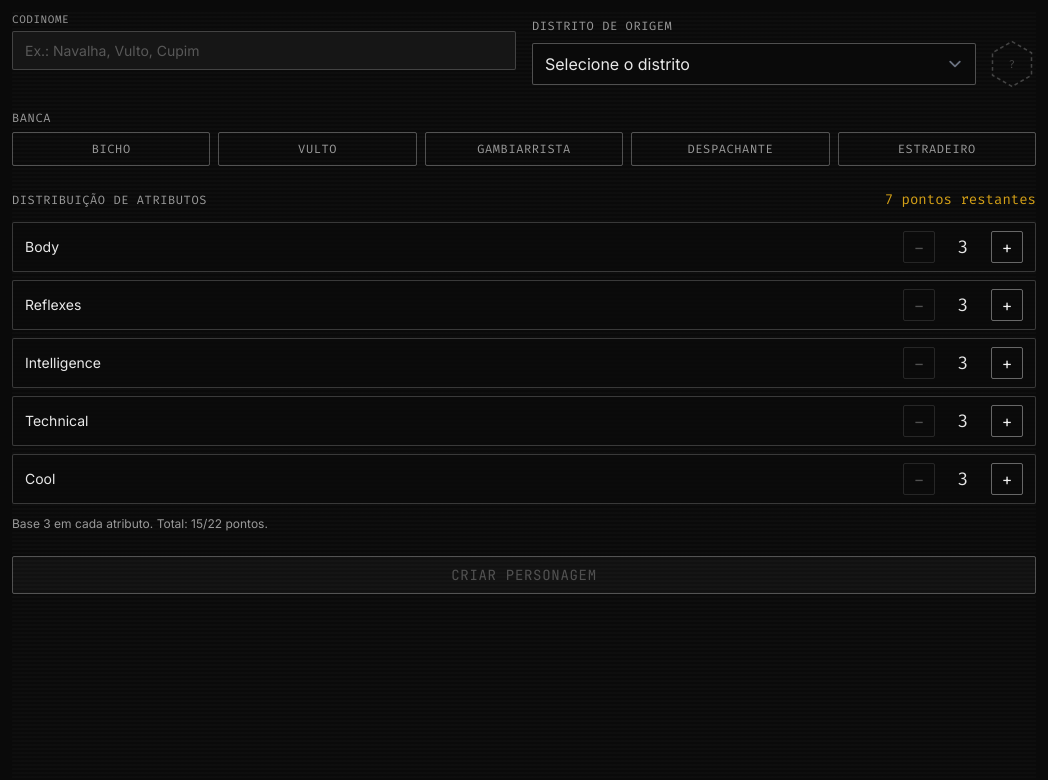
CharacterForm › shows an inline error when the codinome has fewer than 2 characters
Type "X" into the field with placeholder "Ex.: Navalha, Vulto, Cupim". click: [264, 51]
box: left=12, top=31, right=516, bottom=70
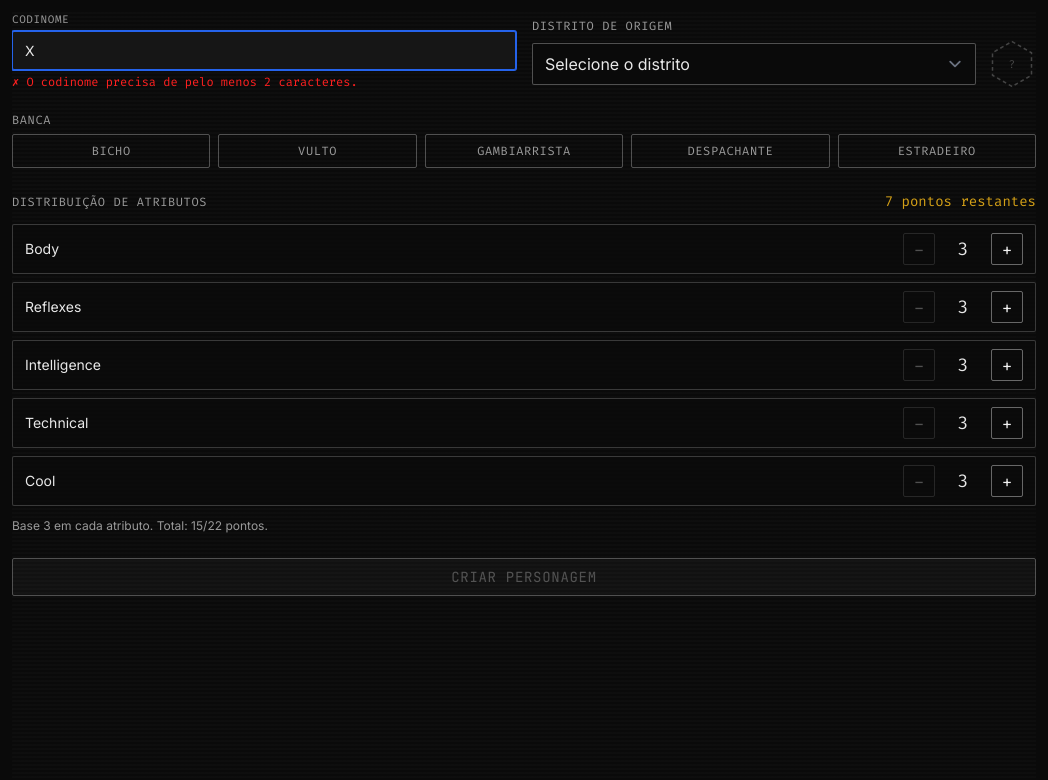
Expected: the button "CRIAR PERSONAGEM" is disabled, left=12, top=558, right=1036, bottom=596
Result: the text "✗ O codinome precisa de pelo menos 2 caracteres." is shown at left=12, top=74, right=358, bottom=90
